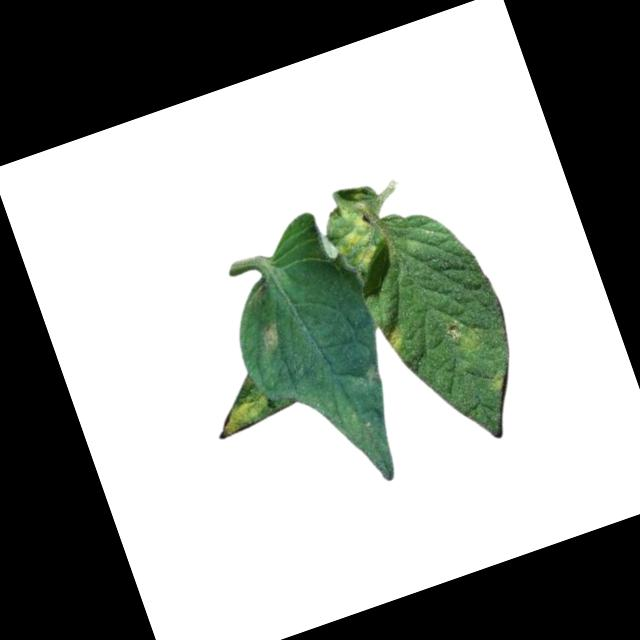Leaf_Mold: (320, 186, 394, 281), (205, 373, 276, 440), (374, 315, 412, 355), (259, 323, 290, 359), (481, 364, 512, 396)
